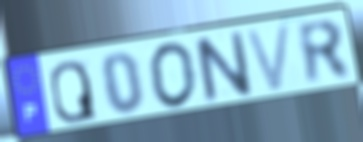0: (99, 50, 148, 118)
N: (191, 28, 256, 107)
O: (146, 39, 199, 111)
Q: (48, 59, 100, 125)
R: (294, 18, 355, 89)
V: (242, 21, 294, 96)
